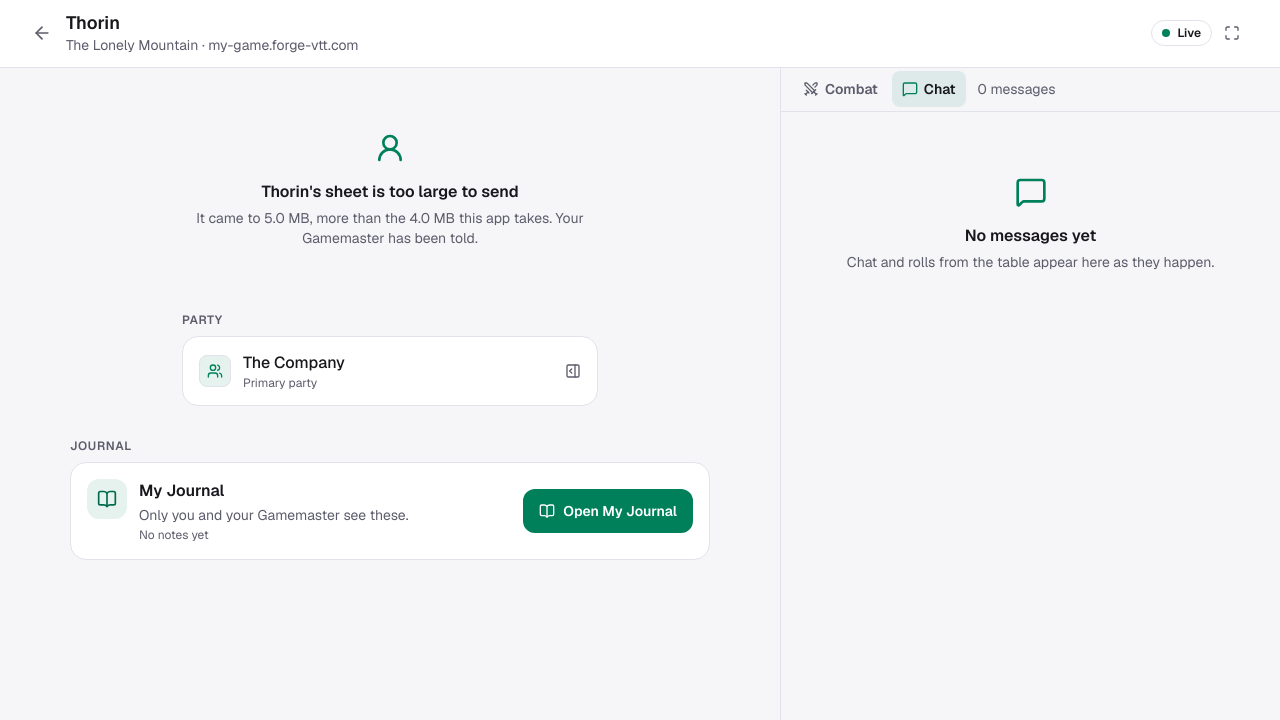
Test case: components/game-table, the party list where there’s no sheet (PR #44’s review) › opens the party sheets from under why there’s no sheet, withheld as too large
The image size is (1280, 720).
Check: the heading "Thorin's sheet is too large to send" is shown, box [261, 180, 519, 204]
Click the button "The Company Primary party": click(215, 370) [189, 342, 591, 398]
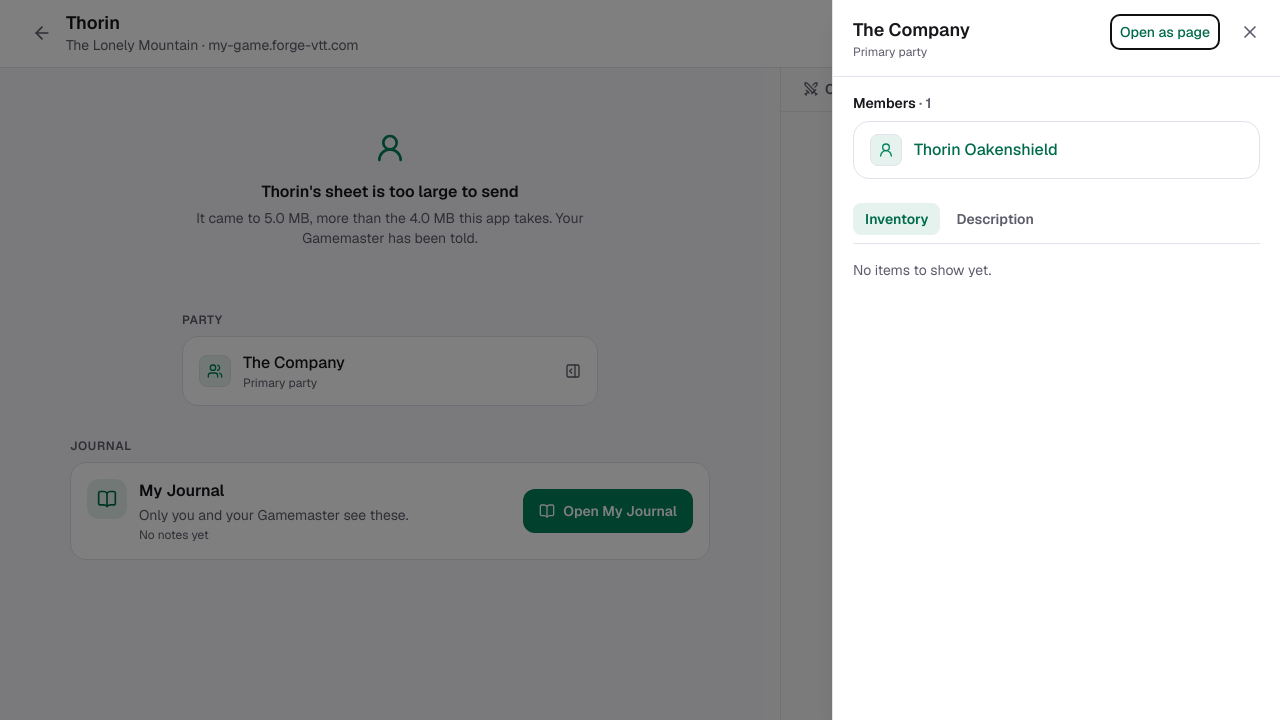
Check: the dialog "The Company" is shown, box [832, 0, 1279, 719]
